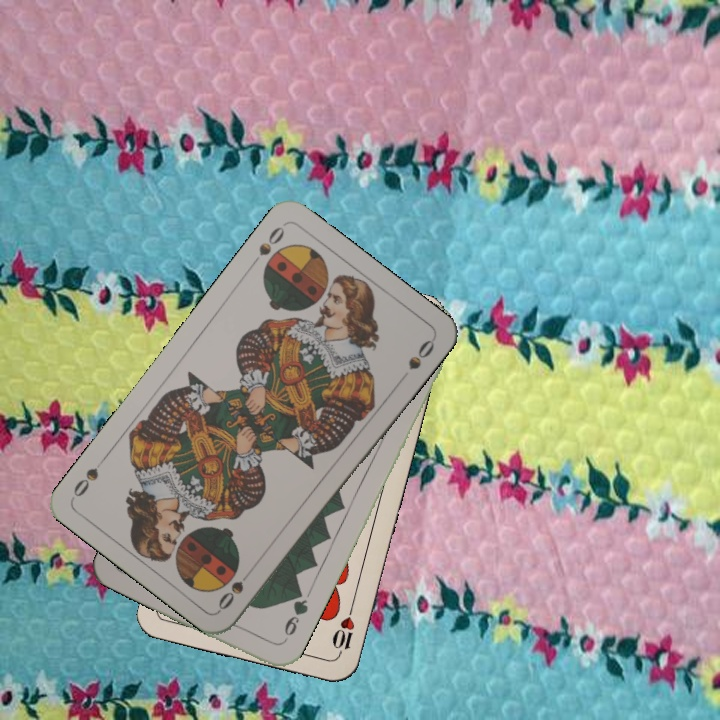G9: (278, 589, 311, 646)
H10: (328, 600, 358, 659)
SO: (214, 562, 257, 613), (246, 222, 288, 270)
